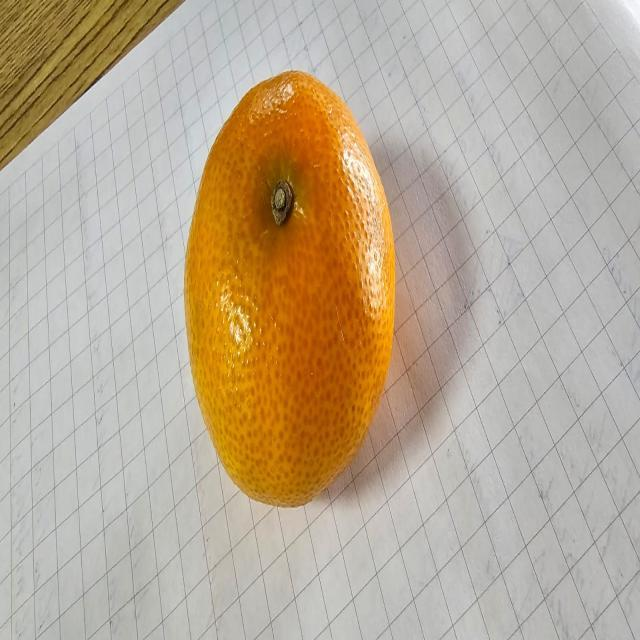Jeruk Mandarin: (181, 64, 399, 519)
